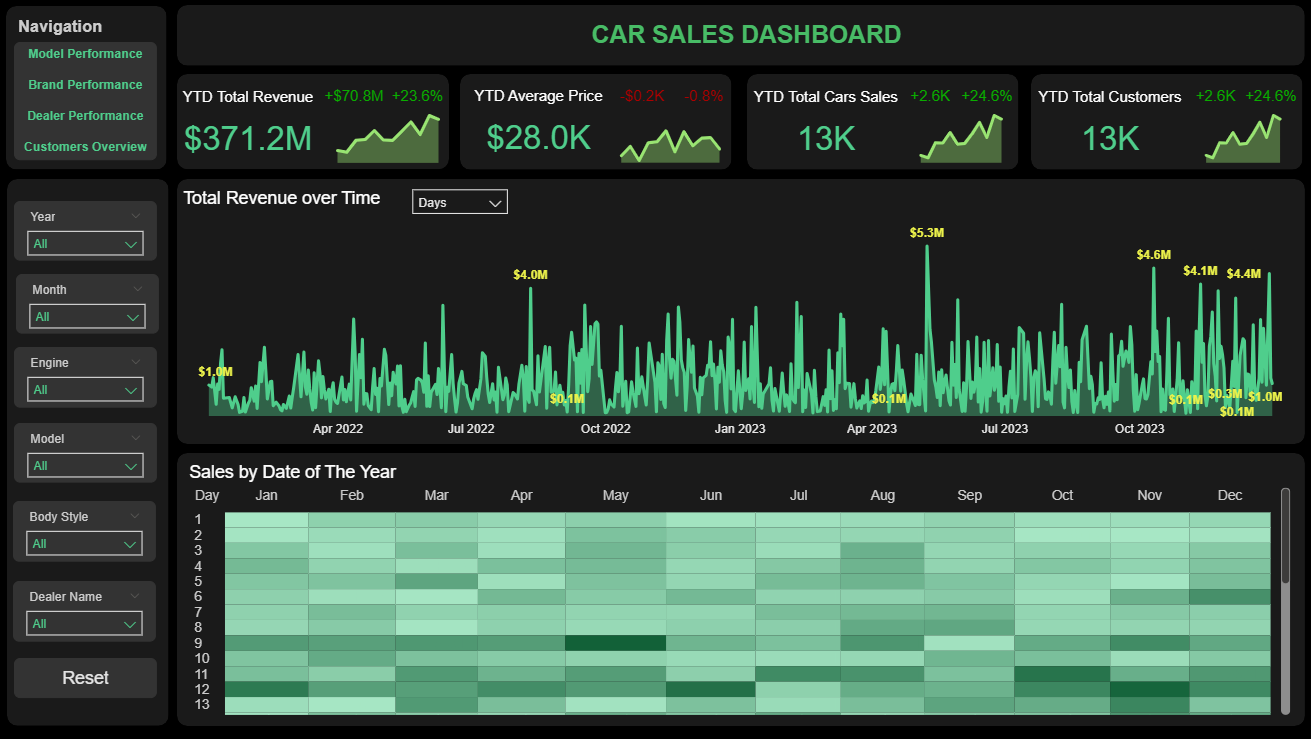

What the dashboard file says about the page in this screenshot:
{"tool":"powerbi","page":{"name":"Sales Overtime ","canvas":[1280,720],"ordinal":0},"visuals":[{"type":"shape","box":[1003,72.5,264.2,93.1],"z":0},{"type":"shape","box":[726.3,72.5,264.2,93.1],"z":1000},{"type":"shape","box":[5.5,6.4,156.4,159.1],"z":2000},{"type":"shape","box":[171.9,6.3,1097,59.1],"z":3000},{"type":"shape","box":[6.4,175.5,157.3,531.8],"z":4000},{"type":"shape","box":[447.8,72.5,264.2,93.1],"z":5000},{"type":"shape","box":[171.8,72.7,264.5,92.7],"z":6000},{"type":"shape","box":[172.2,175.1,1097.1,257.8],"z":7000},{"type":"shape","box":[172.2,441.6,1097.1,265.5],"z":8000},{"type":"slicer","fields":{"Values":["DateTable.Year"]},"box":[13.6,196.4,139.1,58.2],"z":9000},{"type":"lineChart","title":"Total Revenue over Time","fields":{"Category":["DateTable.Date"],"Y":["Measrure.Total Revenue"]},"box":[172.8,183.6,1094.3,249.9],"z":10000},{"type":"slicer","fields":{"Values":["Car Model.Engine"]},"box":[13.6,338.2,139.1,59.1],"z":11000},{"type":"slicer","fields":{"Values":["Car Model.Model"]},"box":[13.6,412.7,139.1,58.2],"z":12000},{"type":"slicer","fields":{"Values":["Dealer.Dealer_Name"]},"box":[12.7,566.4,139.1,59.1],"z":13000},{"type":"slicer","fields":{"Values":["Car Model.Body Style"]},"box":[12.7,488.2,139.1,59.1],"z":14000},{"type":"card","title":"YTD Total Revenue","fields":{"Values":["Measrure.YTD Revenue"]},"box":[171.8,87.3,138.2,78.2],"z":15000},{"type":"textbox","box":[456.2,15.6,539.8,39.9],"z":16000},{"type":"textbox","box":[12.6,12.6,96.3,29.2],"z":17000},{"type":"actionButton","box":[13.6,640.9,139.1,39.1],"z":18000},{"type":"slicer","fields":{"Values":["DateTable.Month Name"]},"box":[15.5,267.3,139.1,58.2],"z":19000},{"type":"slicer","fields":{"Values":["Parameter.Parameter"]},"box":[391.3,175.5,112.8,42.1],"z":20000},{"type":"pivotTable","title":"Sales by Date of The Year","fields":{"Values":["Measrure.Total Revenue"],"Rows":["DateTable.Day"],"Columns":["DateTable.Month Name"]},"box":[179,450.3,1080.6,250.9],"z":21000},{"type":"pageNavigator","box":[13.6,41.8,139.1,114.5],"z":22000},{"type":"card","fields":{"Values":["Sales.Revenue Diff and Icon"]},"box":[310,72.7,68.2,46.4],"z":23000},{"type":"card","fields":{"Values":["Measrure.YOY Revenue Growth and Icon"]},"box":[375.4,72.9,61.3,45.7],"z":24000},{"type":"card","fields":{"Values":["Measrure.Avg Sale Price Diff and Icon"]},"box":[592.7,72.7,64.5,46.4],"z":25000},{"type":"card","fields":{"Values":["Measrure.YOY Avg Price Growth and Icon"]},"box":[657.5,72.9,54.5,45.7],"z":26000},{"type":"card","title":" YTD Average Price","fields":{"Values":["Measrure.YTD Avg Sale Price"]},"box":[451.3,86.9,145.1,78.8],"z":27000},{"type":"card","title":"YTD Total Cars Sales","fields":{"Values":["Measrure.YTD Total Cars Sold"]},"box":[726.4,87.3,153.6,78.2],"z":28000},{"type":"card","fields":{"Values":["Measrure.Total Cars Sold Diff and Icon"]},"box":[880,72.7,49.1,46.4],"z":29000},{"type":"card","fields":{"Values":["Measure.YOY Total Cars Sold Growth and Icon"]},"box":[928.9,72.9,62.2,45.7],"z":30000},{"type":"card","title":"YTD Total Customers","fields":{"Values":["Measure.YTD Total Customers"]},"box":[1002.7,87.3,153.6,78.2],"z":31000},{"type":"card","fields":{"Values":["Measure.Total Customers Diff and Icon"]},"box":[1156.4,72.7,51.8,46.4],"z":32000},{"type":"card","fields":{"Values":["Measure.YOY Total Customers Growth and Icon"]},"box":[1205.1,72.9,62.2,45.7],"z":33000},{"type":"lineChart","fields":{"Category":["DateTable.Month Number"],"Y":["Measure.Total Revenue"]},"box":[304.5,86,163.9,78.8],"z":34000},{"type":"lineChart","fields":{"Category":["DateTable.Month Number"],"Y":["Measure.Average Sale Price"]},"box":[580.3,99.4,160.3,65.4],"z":35000},{"type":"lineChart","fields":{"Category":["DateTable.Month Number"],"Y":["Measure.Total Cars Sold"]},"box":[873.1,96.7,137,68.1],"z":36000},{"type":"lineChart","fields":{"Category":["DateTable.Month Number"],"Y":["Customer.Total Customers"]},"box":[1151.6,96.7,128.1,68.1],"z":37000}]}

Visuals, with their boxes in screenshot pixels (x1, y1, x2, y2), scaled from the page's 1280x720 canvas onto the 1311x739 screenshot:
shape: l=1027, t=74, r=1298, b=170
shape: l=744, t=74, r=1014, b=170
shape: l=6, t=7, r=166, b=170
shape: l=176, t=6, r=1300, b=67
shape: l=7, t=180, r=168, b=726
shape: l=459, t=74, r=729, b=170
shape: l=176, t=75, r=447, b=170
shape: l=176, t=180, r=1300, b=444
shape: l=176, t=453, r=1300, b=726
slicer - DateTable.Year: l=14, t=202, r=156, b=261
"Total Revenue over Time" lineChart: l=177, t=188, r=1298, b=445
slicer - Car Model.Engine: l=14, t=347, r=156, b=408
slicer - Car Model.Model: l=14, t=424, r=156, b=483
slicer - Dealer.Dealer_Name: l=13, t=581, r=155, b=642
slicer - Car Model.Body Style: l=13, t=501, r=155, b=562
"YTD Total Revenue" card: l=176, t=90, r=318, b=170
textbox: l=467, t=16, r=1020, b=57
textbox: l=13, t=13, r=112, b=43
actionButton: l=14, t=658, r=156, b=698
slicer - DateTable.Month Name: l=16, t=274, r=158, b=334
slicer - Parameter.Parameter: l=401, t=180, r=516, b=223
"Sales by Date of The Year" pivotTable: l=183, t=462, r=1290, b=720
pageNavigator: l=14, t=43, r=156, b=160
card - Sales.Revenue Diff and Icon: l=318, t=75, r=387, b=122
card - Measrure.YOY Revenue Growth and Icon: l=384, t=75, r=447, b=122
card - Measrure.Avg Sale Price Diff and Icon: l=607, t=75, r=673, b=122
card - Measrure.YOY Avg Price Growth and Icon: l=673, t=75, r=729, b=122
" YTD Average Price" card: l=462, t=89, r=611, b=170
"YTD Total Cars Sales" card: l=744, t=90, r=901, b=170
card - Measrure.Total Cars Sold Diff and Icon: l=901, t=75, r=952, b=122
card - Measure.YOY Total Cars Sold Growth and Icon: l=951, t=75, r=1015, b=122
"YTD Total Customers" card: l=1027, t=90, r=1184, b=170
card - Measure.Total Customers Diff and Icon: l=1184, t=75, r=1237, b=122
card - Measure.YOY Total Customers Growth and Icon: l=1234, t=75, r=1298, b=122
lineChart - DateTable.Month Number x Measure.Total Revenue: l=312, t=88, r=480, b=169
lineChart - DateTable.Month Number x Measure.Average Sale Price: l=594, t=102, r=759, b=169
lineChart - DateTable.Month Number x Measure.Total Cars Sold: l=894, t=99, r=1035, b=169
lineChart - DateTable.Month Number x Customer.Total Customers: l=1179, t=99, r=1310, b=169
